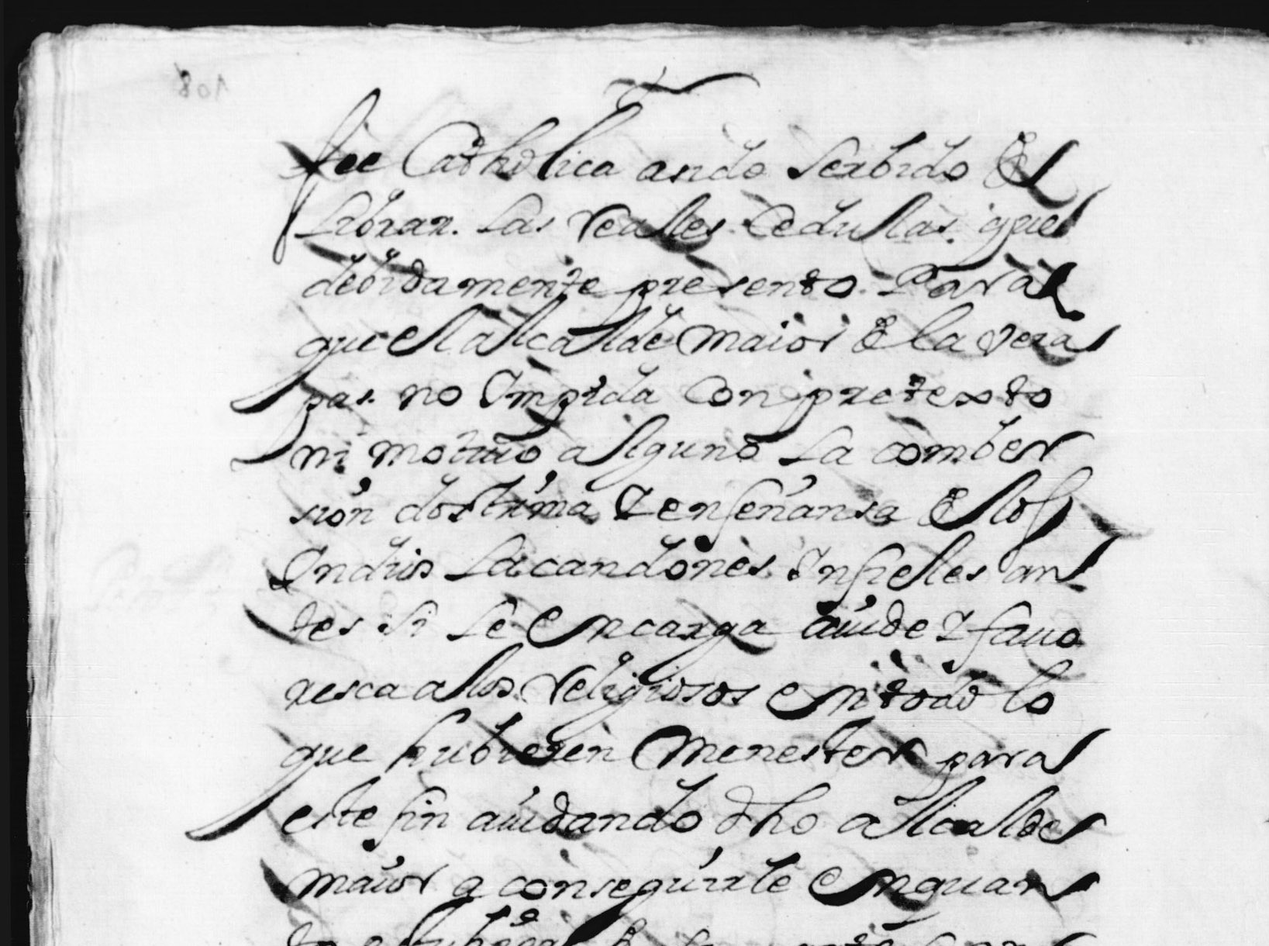lacandon: (443, 533, 776, 582)
